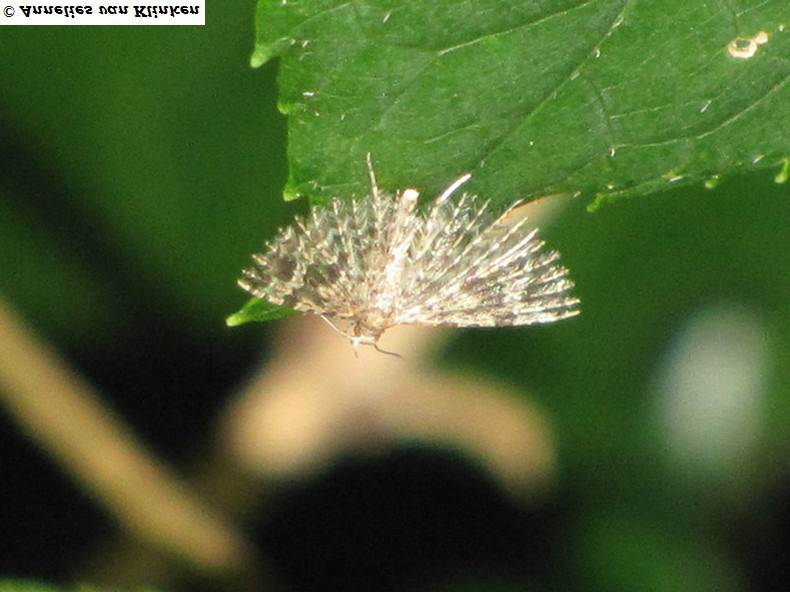Alucitidae: (231, 146, 588, 364)
moth: (233, 148, 590, 366)
